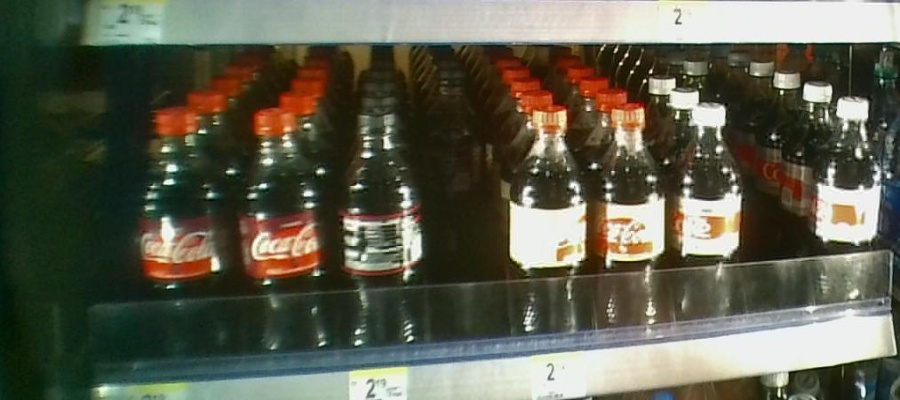bottle: (133, 106, 233, 364), (236, 104, 330, 354), (334, 97, 420, 358), (509, 100, 590, 345), (667, 90, 743, 337), (590, 96, 665, 342), (813, 96, 887, 317), (429, 68, 478, 209)
